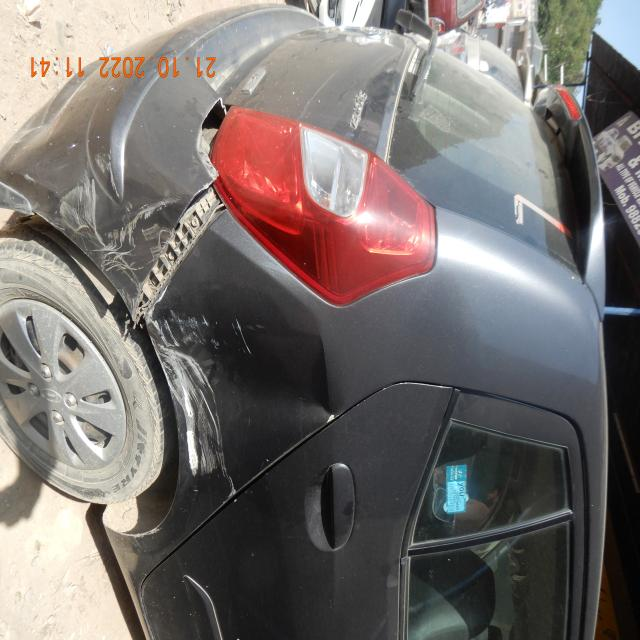damage: (57, 167, 216, 317), (141, 295, 253, 496), (196, 95, 226, 174), (314, 335, 340, 426)
